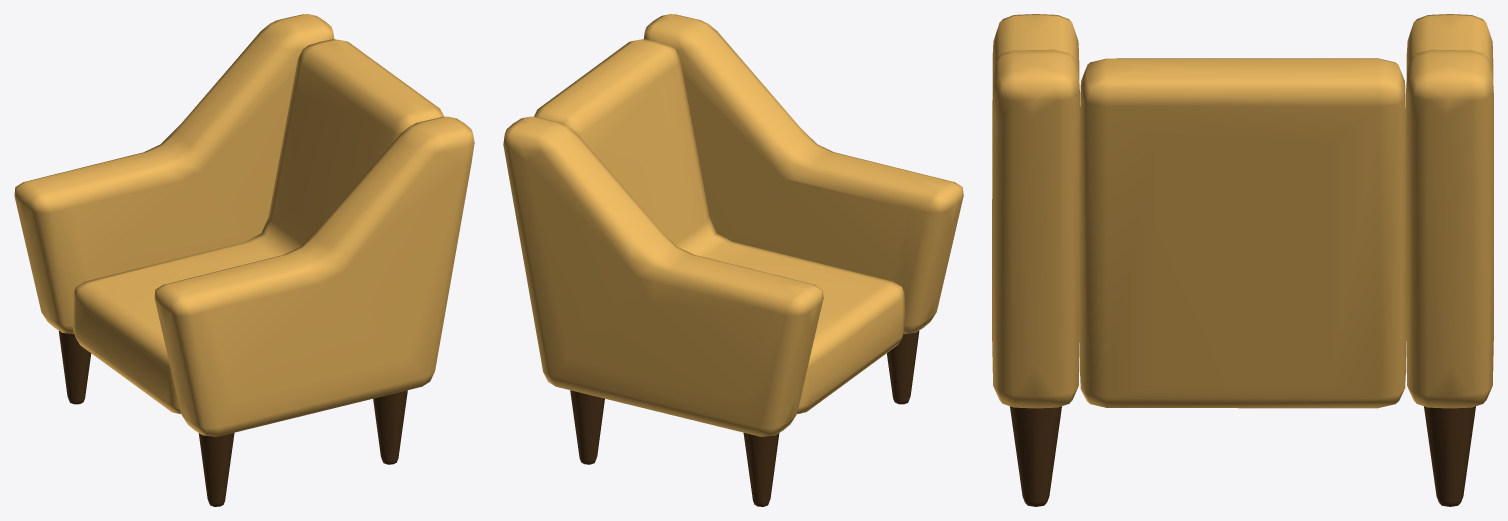
The model's file is armchair_01_yellow.fbx.
3 renders of one model, left to right at view 1: azimuth 30°, elevation 25°; view 2: azimuth 150°, elevation 25°; view 3: azimuth 270°, elevation 25°, orthographic. The views are drawn at different scales.
Visible parts, largest first — view 1: armchair_01_yellow; view 2: armchair_01_yellow; view 3: armchair_01_yellow.
Part boxes in pixels (bbox=[...]): armchair_01_yellow: bbox=[14, 14, 474, 506]; armchair_01_yellow: bbox=[503, 14, 963, 506]; armchair_01_yellow: bbox=[992, 14, 1493, 506].
Size of the model in its own units: 101 by 104 by 98.01.
2 materials, 2 textured.
